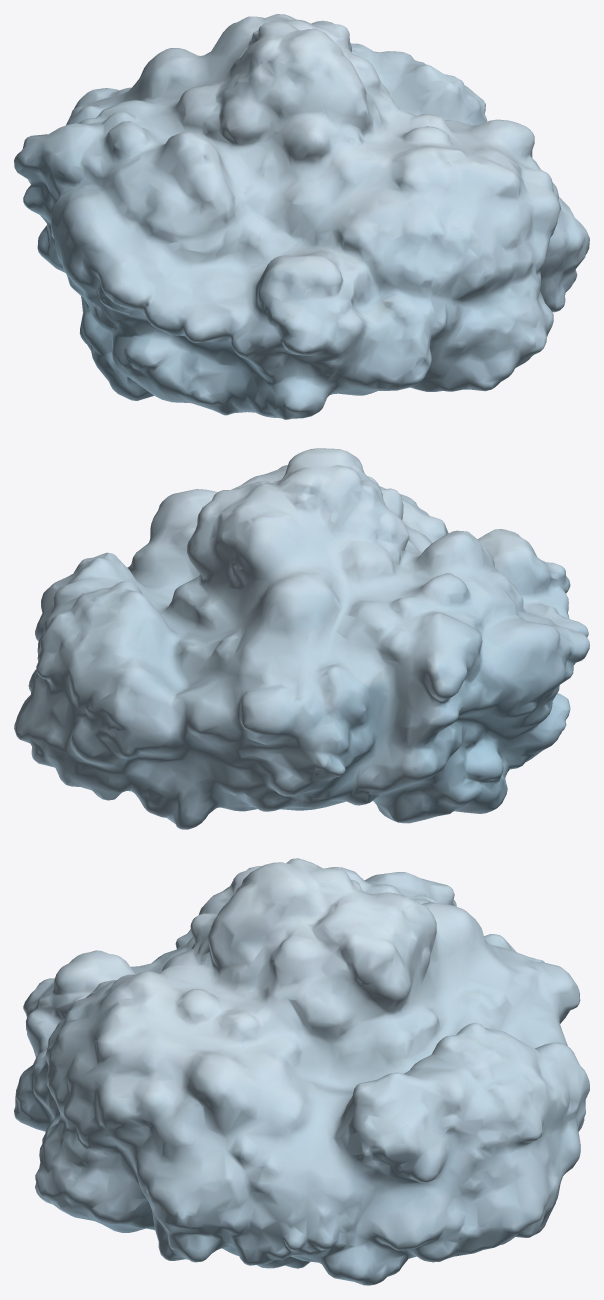
File: env-cloud2.glb
3 renders of one model, top to bottom at view 1: azimuth 30°, elevation 25°; view 2: azimuth 150°, elevation 25°; view 3: azimuth 270°, elevation 25°, orthographic. The views are drawn at different scales.
Visible parts, largest first — view 1: Meshy_AI_Soft_Cloud_0909082138_texture; view 2: Meshy_AI_Soft_Cloud_0909082138_texture; view 3: Meshy_AI_Soft_Cloud_0909082138_texture.
Boxes of the visible parts, x1=… form: Meshy_AI_Soft_Cloud_0909082138_texture: x1=14, y1=14, x2=589, y2=419; Meshy_AI_Soft_Cloud_0909082138_texture: x1=14, y1=448, x2=589, y2=829; Meshy_AI_Soft_Cloud_0909082138_texture: x1=14, y1=858, x2=589, y2=1285.
Bounding box in the file's own units: 1.83 × 1.18 × 1.82.
Materials: 1 (1 with a texture image).
